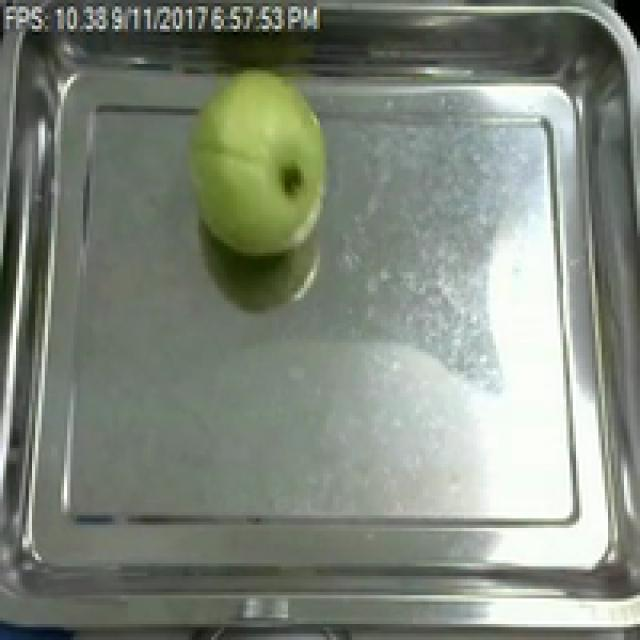Fruit: (176, 64, 342, 266)
